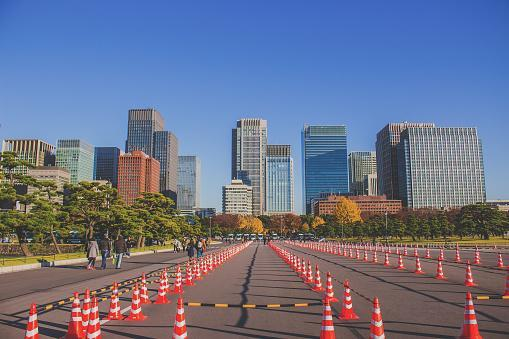Cone: (458, 290, 483, 339), (338, 280, 358, 321), (70, 295, 87, 339), (172, 298, 190, 339), (369, 298, 387, 339), (128, 285, 147, 322), (23, 302, 41, 339), (318, 300, 333, 339), (108, 285, 124, 319), (89, 294, 100, 339), (324, 270, 338, 303), (325, 270, 339, 303), (464, 260, 479, 288), (311, 266, 324, 292), (173, 267, 184, 293), (157, 276, 167, 303), (184, 263, 195, 286), (435, 255, 445, 280), (412, 254, 424, 274), (194, 261, 203, 279), (495, 252, 505, 268), (397, 251, 405, 270), (300, 257, 307, 276), (370, 250, 379, 264), (454, 247, 462, 262), (384, 249, 391, 266), (474, 246, 480, 265), (295, 255, 301, 273), (438, 247, 446, 260), (363, 250, 369, 262), (356, 248, 360, 260), (349, 248, 352, 258), (343, 248, 347, 255)
